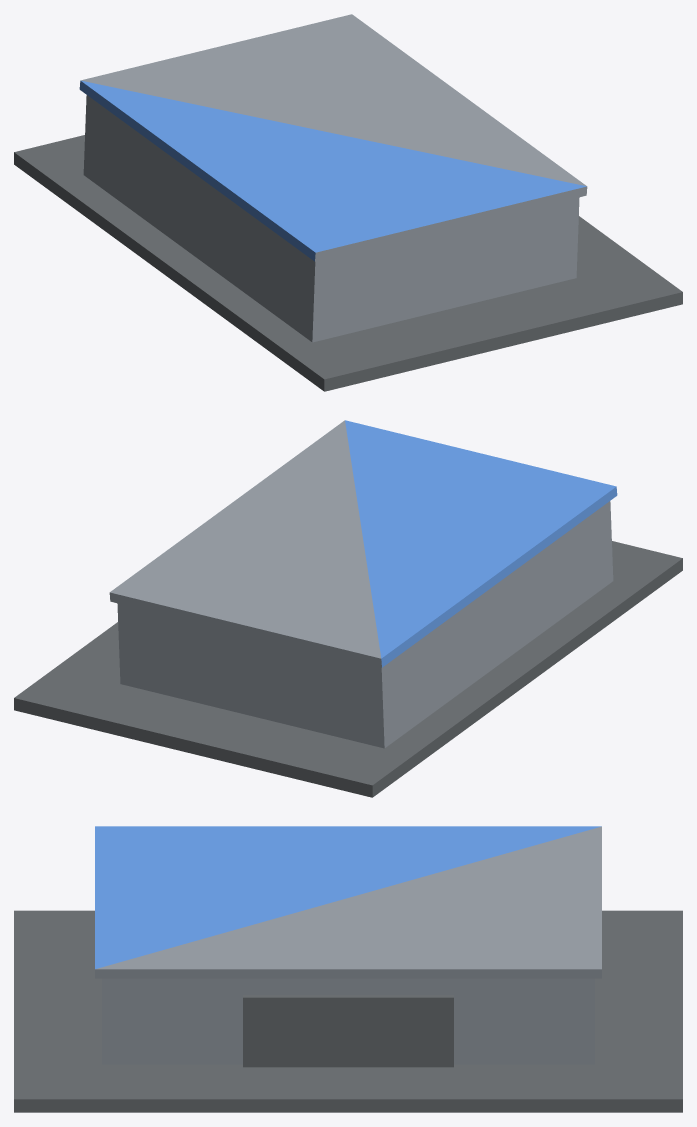
File: veyran_barracks_heavily_damaged.glb
The picture shows the model from 3 angles, top to bottom: view 1: azimuth 30°, elevation 25°; view 2: azimuth 150°, elevation 25°; view 3: azimuth 270°, elevation 25°; orthographic projection. The views are drawn at different scales.
Parts seen in each view (by area): view 1: hull; view 2: hull; view 3: hull, door.
Boxes of the visible parts, x1,y1,x2,y2 form: hull: (14,14,682,391); hull: (14,420,682,797); hull: (14,826,682,1112); door: (243,995,453,1067).
Size of the model in its own units: 7.6 by 2.12 by 11.4.
